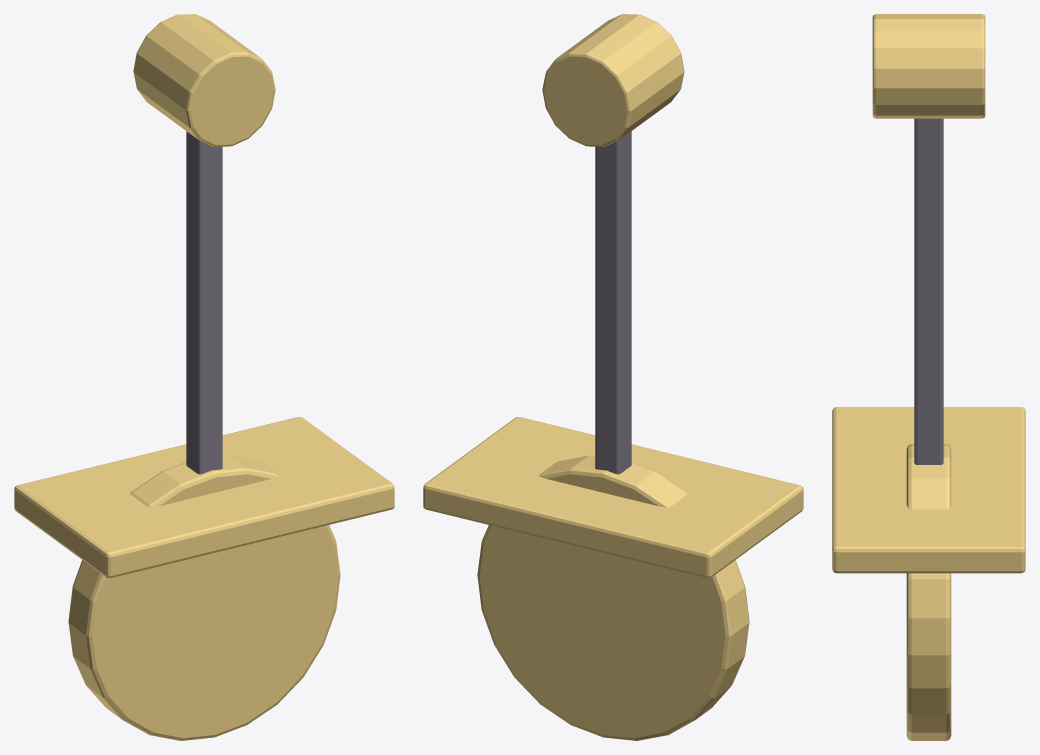
File: pendulum_blade.glb
The picture shows the model from 3 angles, left to right: view 1: azimuth 30°, elevation 25°; view 2: azimuth 150°, elevation 25°; view 3: azimuth 270°, elevation 25°; orthographic projection.
Visible parts, largest first — view 1: BobDisc, Shaft; view 2: BobDisc, Shaft; view 3: BobDisc, Shaft.
Part boxes in pixels (left/top/right/bottom): BobDisc: left=14, top=14, right=394, bottom=740; Shaft: left=186, top=131, right=222, bottom=474; BobDisc: left=423, top=14, right=803, bottom=740; Shaft: left=595, top=131, right=631, bottom=474; BobDisc: left=832, top=14, right=1025, bottom=740; Shaft: left=914, top=118, right=943, bottom=464.
Bounding box in the file's own units: 4.2 × 9.7 × 2.4.
